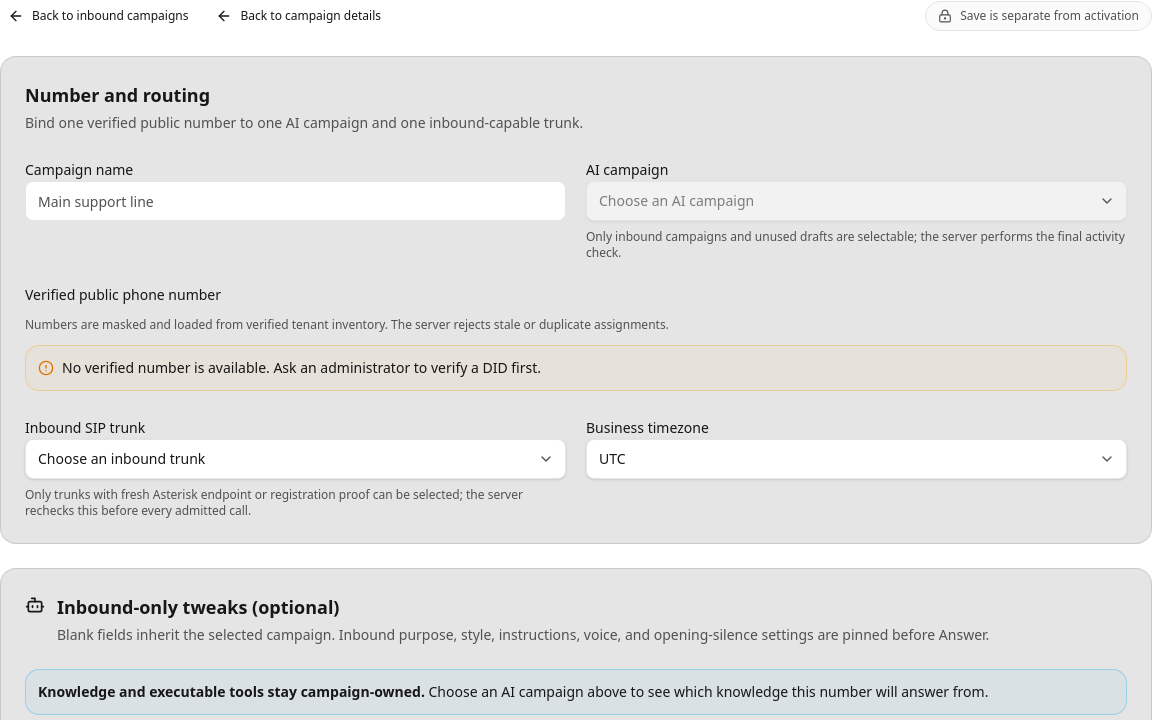
Test: real inbound form allows loaded IP trunks despite outbound timeout and rejects missing inbound proof
This screenshot has width=1152, height=720.
Click the dropdown named "Inbound SIP trunk" at (122, 458), box [25,439,566,479]
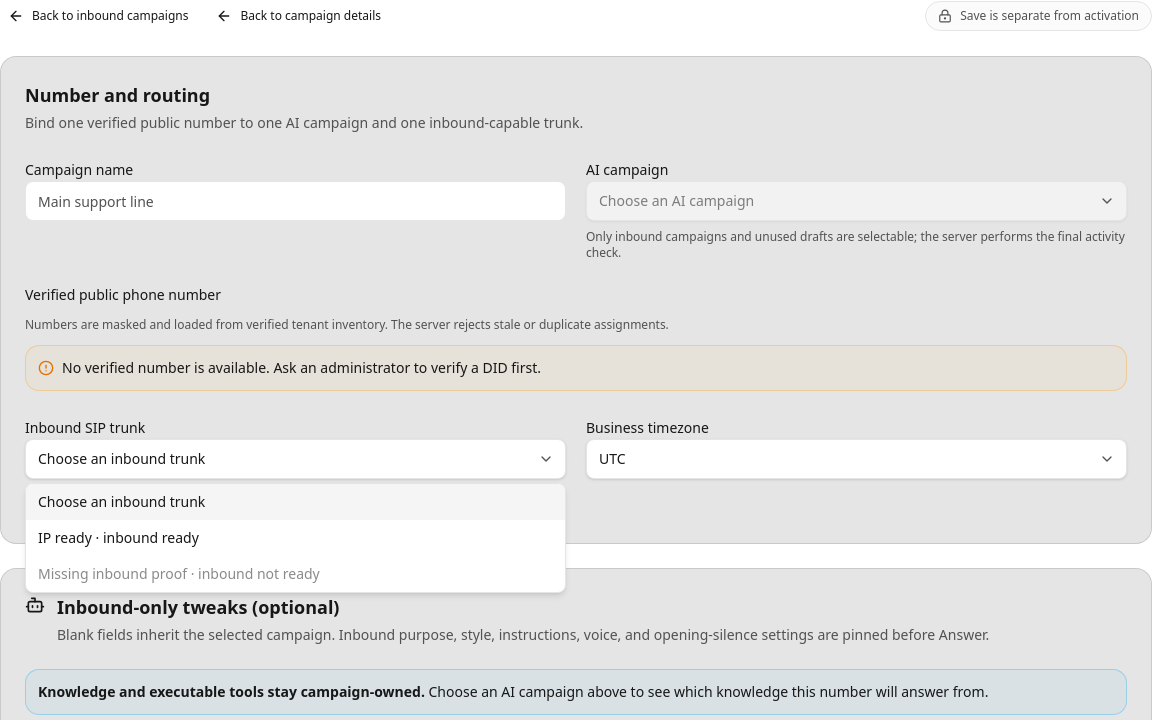
Click the option "IP ready · inbound ready" at (118, 538), box [26,520,565,556]
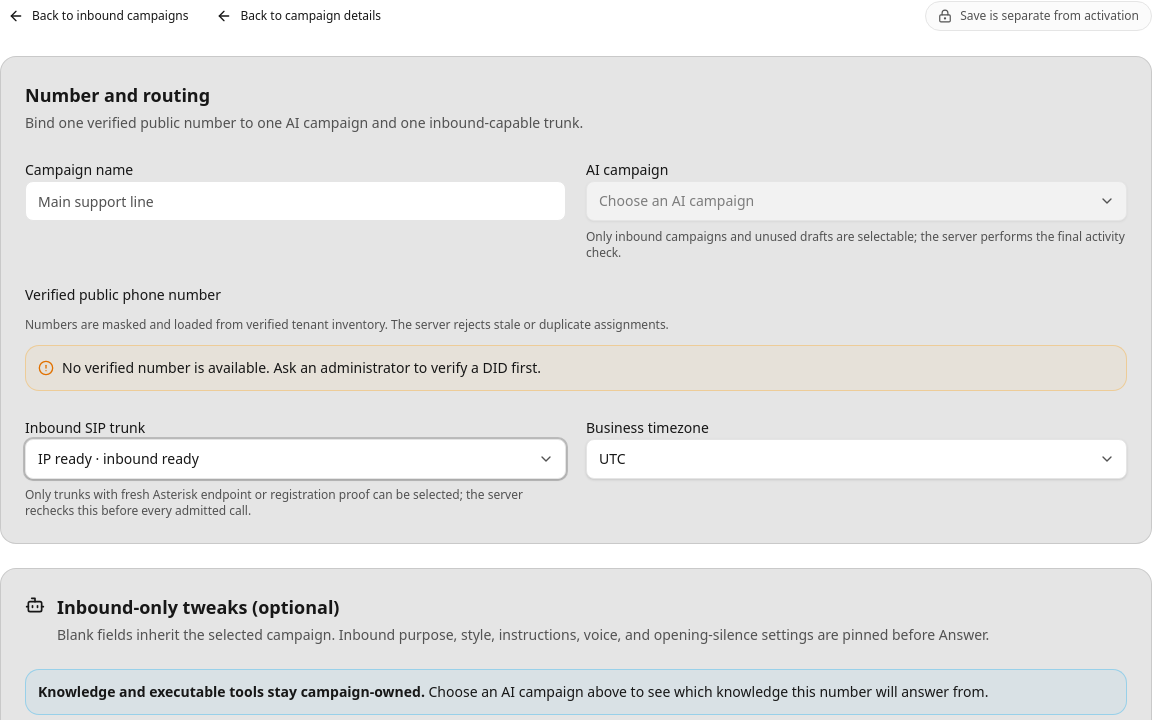
Expected: the text "IP ready · inbound ready" is shown, [38,449,199,468]
